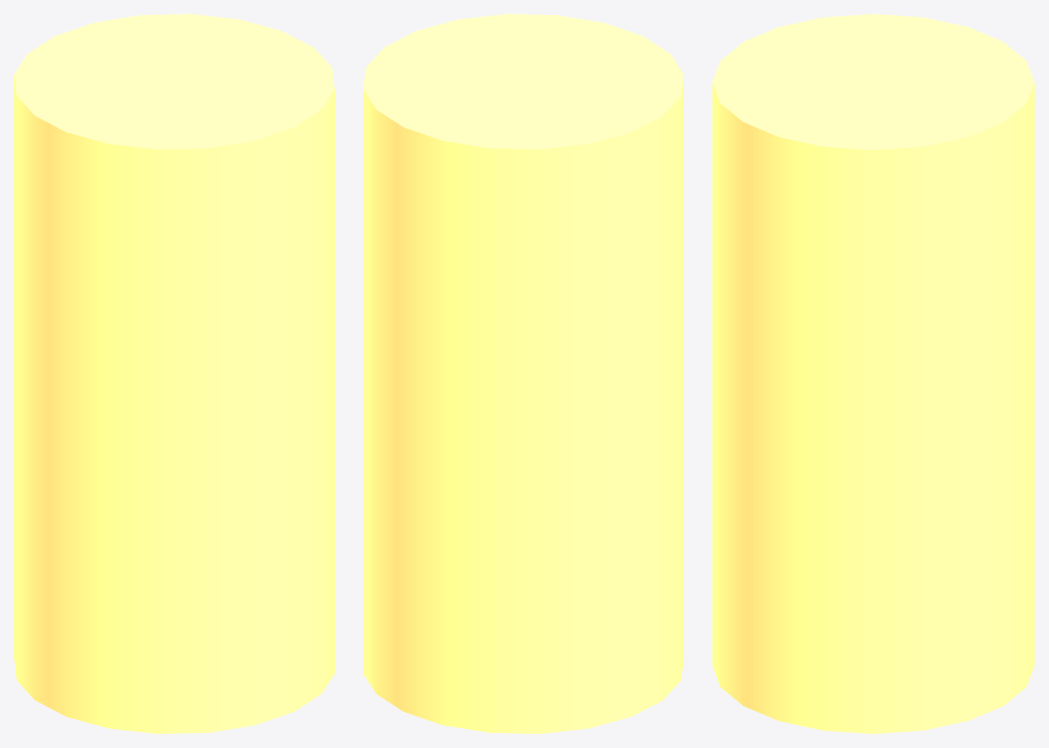
3 renders of one model, left to right at view 1: azimuth 30°, elevation 25°; view 2: azimuth 150°, elevation 25°; view 3: azimuth 270°, elevation 25°, orthographic.
Visible parts, largest first — view 1: Cylinder; view 2: Cylinder; view 3: Cylinder.
Part boxes in pixels (bbox=[...]): Cylinder: bbox=[14, 14, 334, 733]; Cylinder: bbox=[363, 14, 683, 733]; Cylinder: bbox=[712, 14, 1034, 733].
Bounding box in the file's own units: 1 × 2 × 1.
